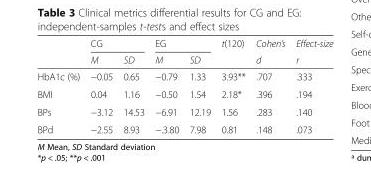table: (36, 37, 332, 134)
table column: (36, 37, 84, 134), (289, 37, 332, 134), (249, 37, 289, 134), (149, 37, 183, 134), (215, 37, 249, 134), (84, 37, 117, 134), (117, 37, 149, 134), (183, 37, 215, 134)
table column header: (36, 37, 332, 67)
table row: (36, 84, 332, 102), (36, 102, 332, 120), (36, 67, 332, 84), (36, 51, 332, 67), (36, 37, 332, 51), (36, 120, 332, 134)
table spanning cell: (289, 37, 332, 67), (249, 37, 289, 67), (215, 37, 249, 67), (149, 37, 215, 51), (84, 37, 149, 51)
